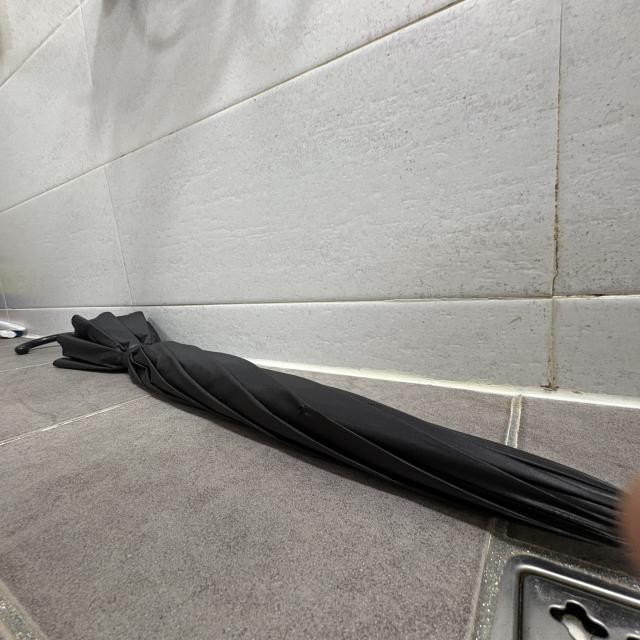umbrella: (17, 311, 639, 570)
